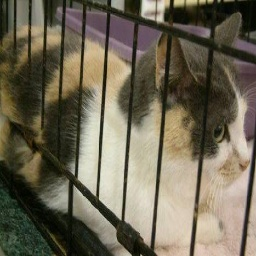cat: (0, 15, 256, 256)
